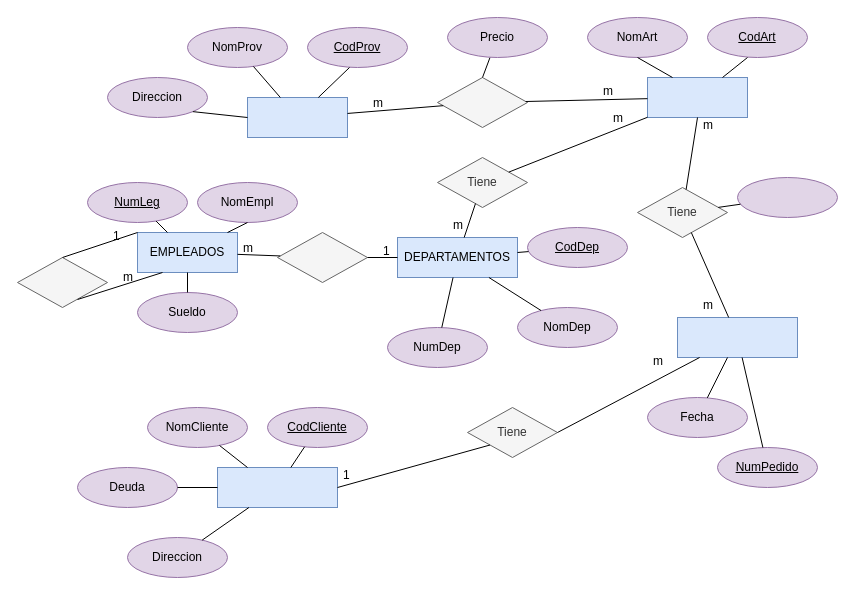
Some shapes in this 855 by 595 pixel diagram are drawn without their labels. The centre of each missing label's shape, as x and y in pixels:
"ARTICULOS" belongs at point 697,97.
"Cantidad" belongs at point 787,197.
"CLIENTES" belongs at point 277,487.
"EsJefeDe" belongs at point 62,282.
"Hay" belongs at point 322,257.
"PEDIDOS" belongs at point 737,337.
"Posee" belongs at point 482,102.
"PROVEEDORES" belongs at point 297,117.
